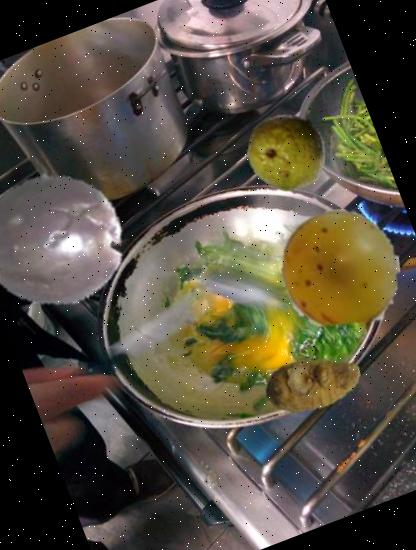Cantaloupe: (8, 215, 110, 317)
Ginger: (251, 322, 376, 447)
Grape: (264, 192, 416, 344)
Guava: (235, 100, 340, 204)
Passion: (0, 146, 146, 332)
